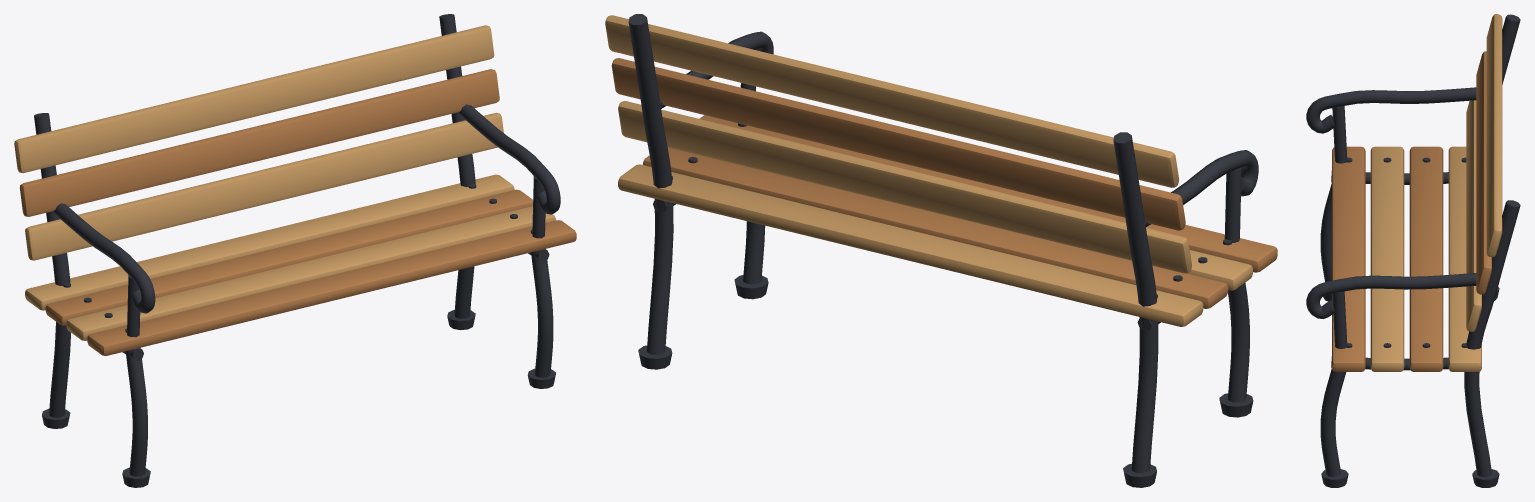
The model's file is bench.glb.
3 views of the same model, side by side, from view 1: azimuth 30°, elevation 25°; view 2: azimuth 150°, elevation 25°; view 3: azimuth 270°, elevation 25° (orthographic). The views are drawn at different scales.
Parts seen in each view (by area): view 1: bench; view 2: bench; view 3: bench.
Boxes of the visible parts, left/top/right/bottom form: bench: left=14, top=14, right=576, bottom=487; bench: left=605, top=14, right=1277, bottom=487; bench: left=1306, top=14, right=1520, bottom=487.
Size of the model in its own units: 1.5 by 0.9075 by 0.6248.
